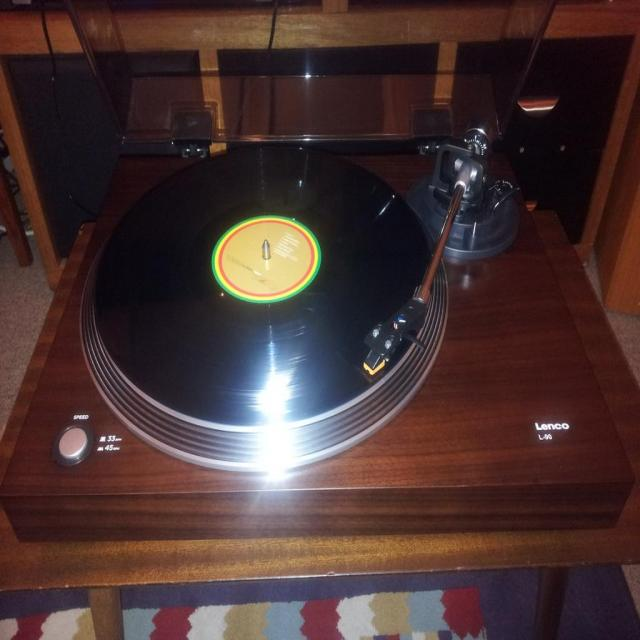table: (0, 212, 639, 639)
